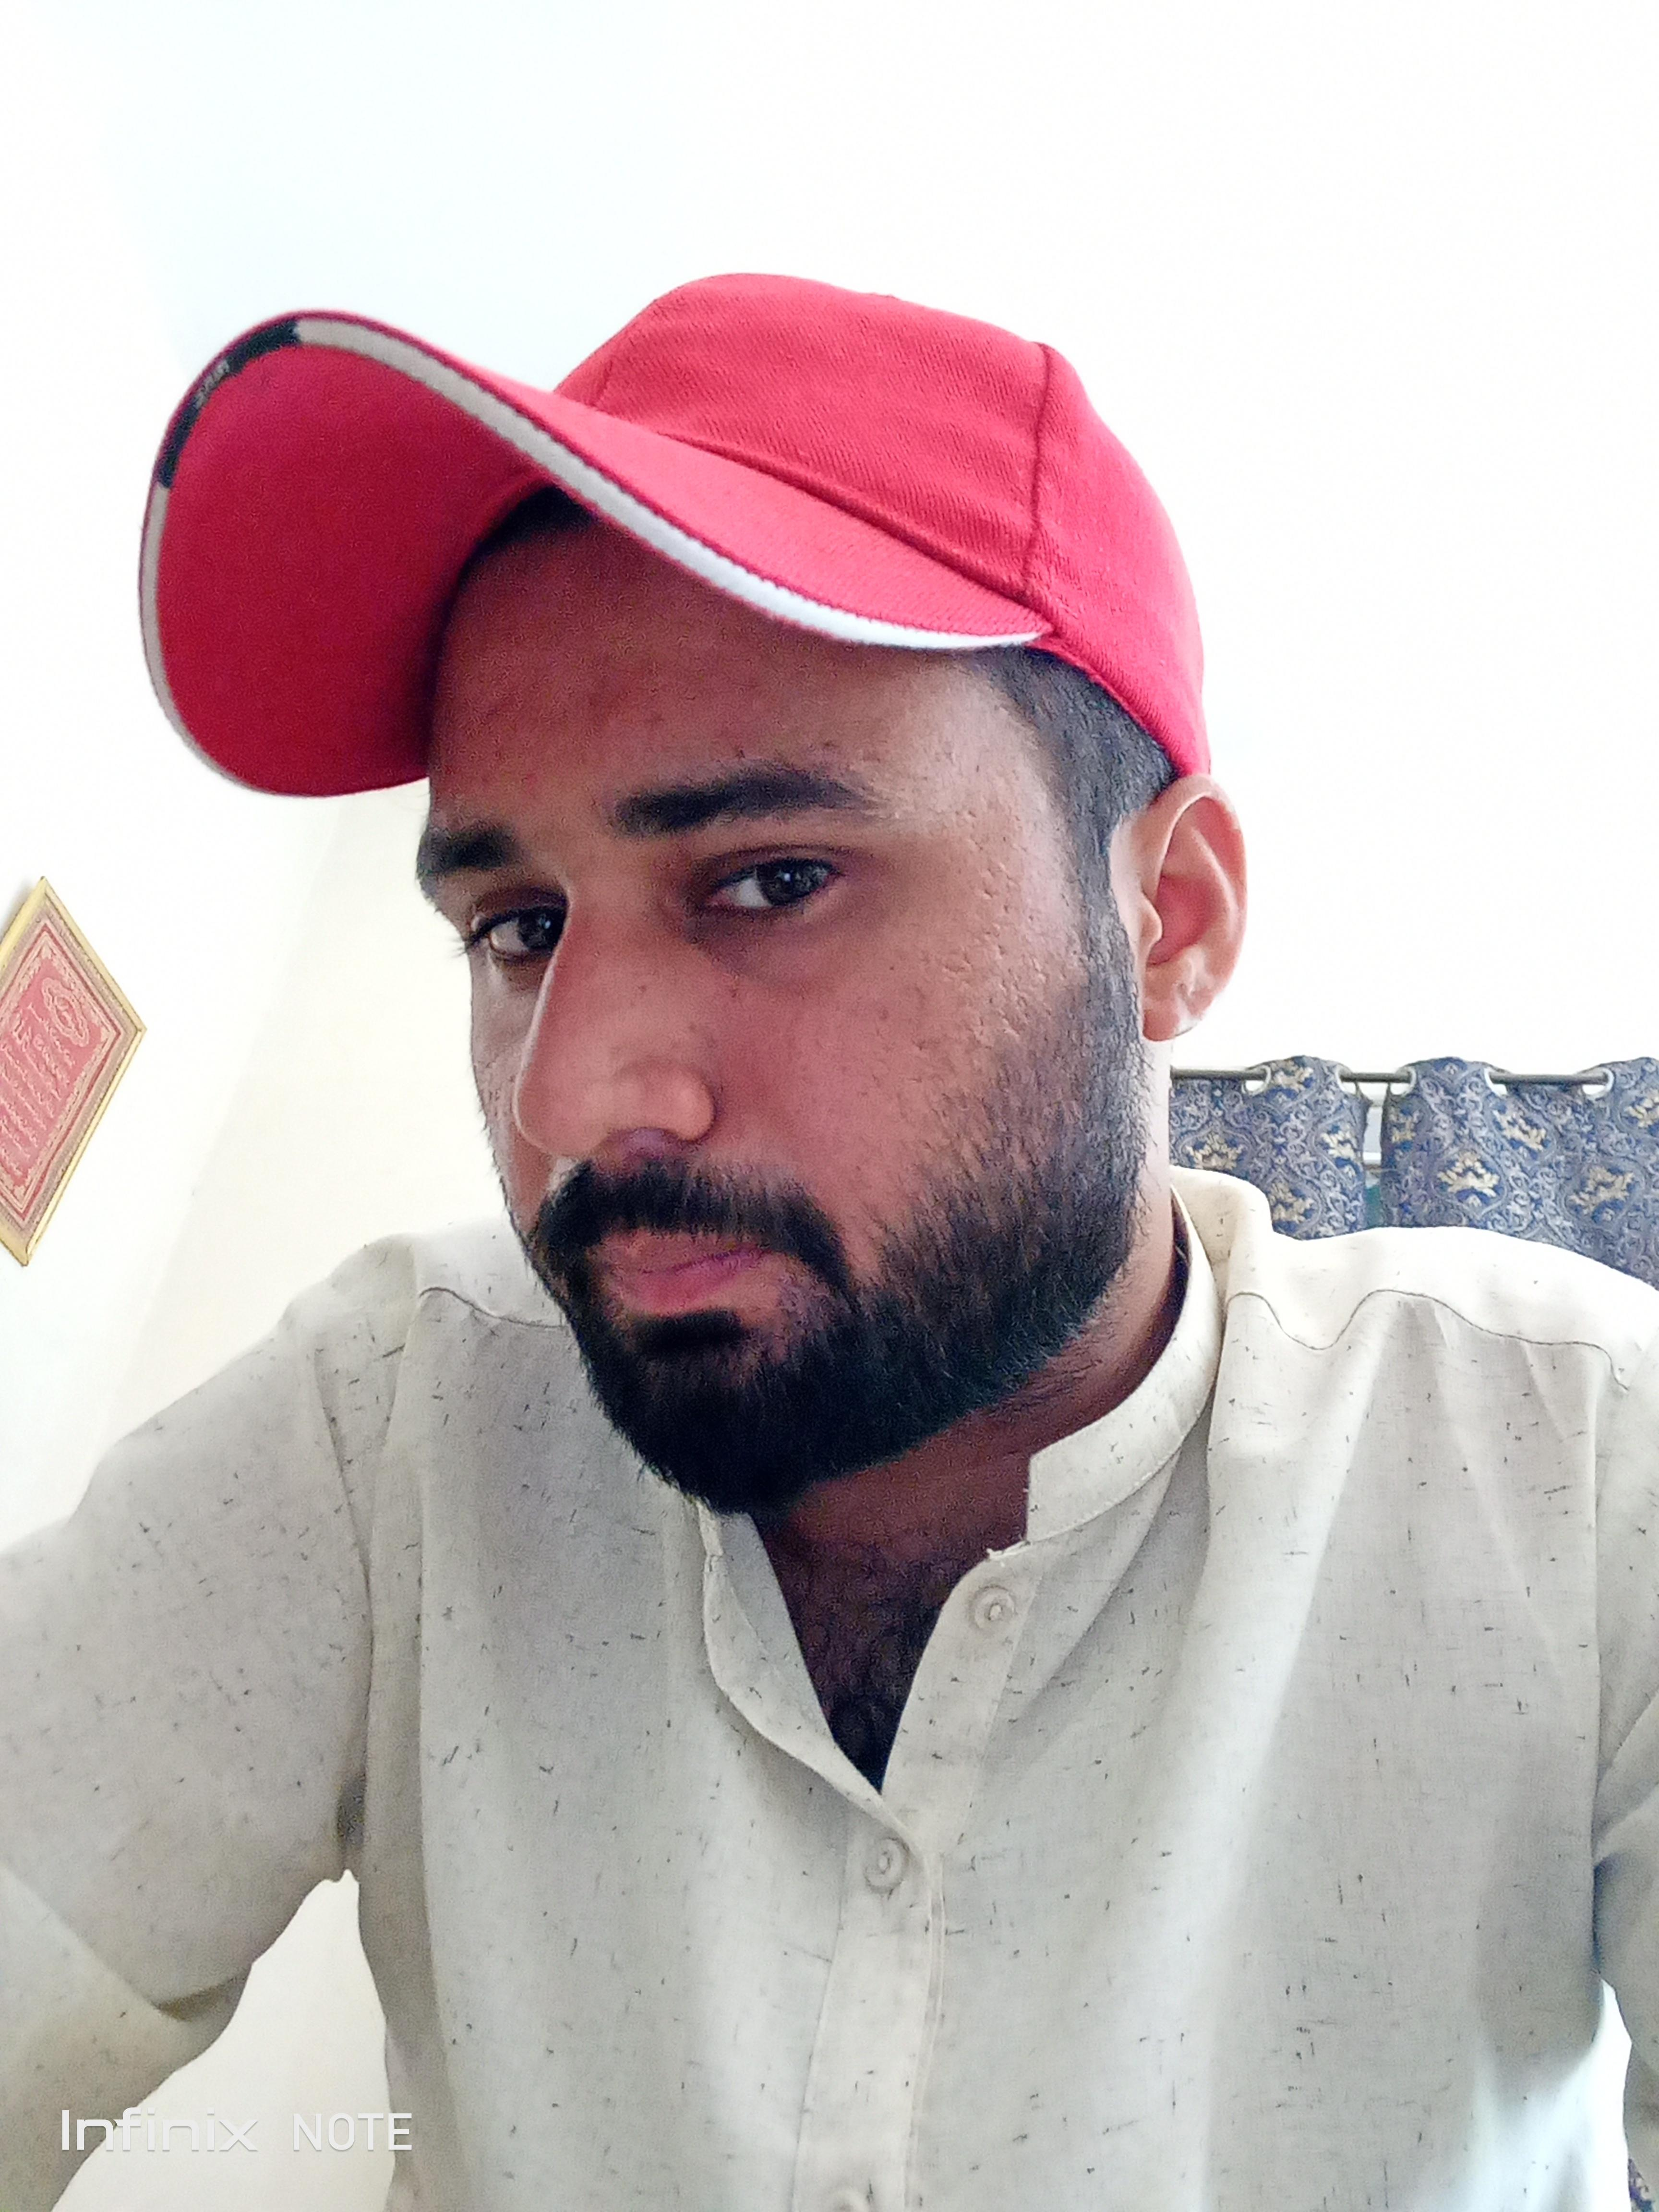Acne: (688, 637, 767, 711), (464, 676, 514, 758), (591, 637, 653, 697), (586, 683, 622, 732), (739, 665, 779, 702), (471, 772, 507, 789), (728, 981, 742, 1015), (655, 709, 671, 732)
Blackheads: (634, 977, 653, 996), (732, 745, 753, 761), (821, 737, 838, 752), (685, 1021, 699, 1036)
Englarged-Pores: (950, 792, 1023, 977), (843, 996, 932, 1129), (873, 941, 957, 995), (484, 1069, 525, 1143)
